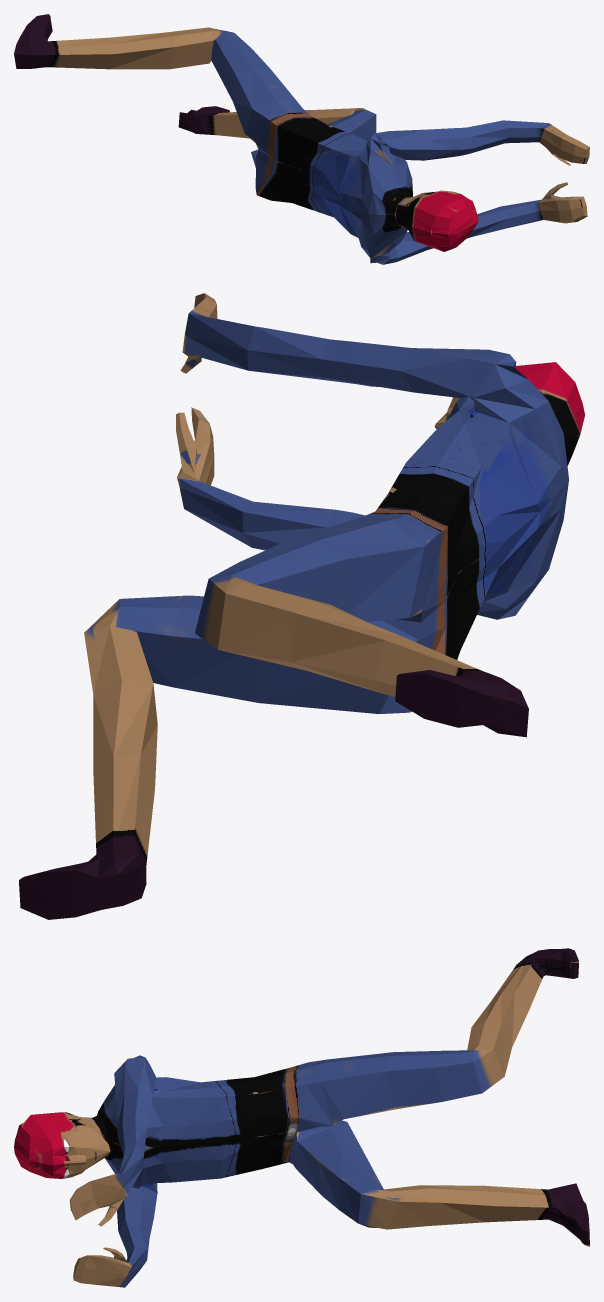
The model's file is mirrorman_000013.obj.
The picture shows the model from 3 angles, top to bottom: view 1: azimuth 30°, elevation 25°; view 2: azimuth 150°, elevation 25°; view 3: azimuth 270°, elevation 25°; orthographic projection. The views are drawn at different scales.
Visible parts, largest first — view 1: mirrorman_Cube.001_Material.001; view 2: mirrorman_Cube.001_Material.001; view 3: mirrorman_Cube.001_Material.001.
Boxes of the visible parts, bbox=[...] form: mirrorman_Cube.001_Material.001: bbox=[14, 14, 589, 264]; mirrorman_Cube.001_Material.001: bbox=[19, 293, 584, 919]; mirrorman_Cube.001_Material.001: bbox=[14, 948, 589, 1287].
Bounding box in the file's own units: 1.3 × 0.5454 × 1.51.
Materials: 1 (1 with a texture image).
